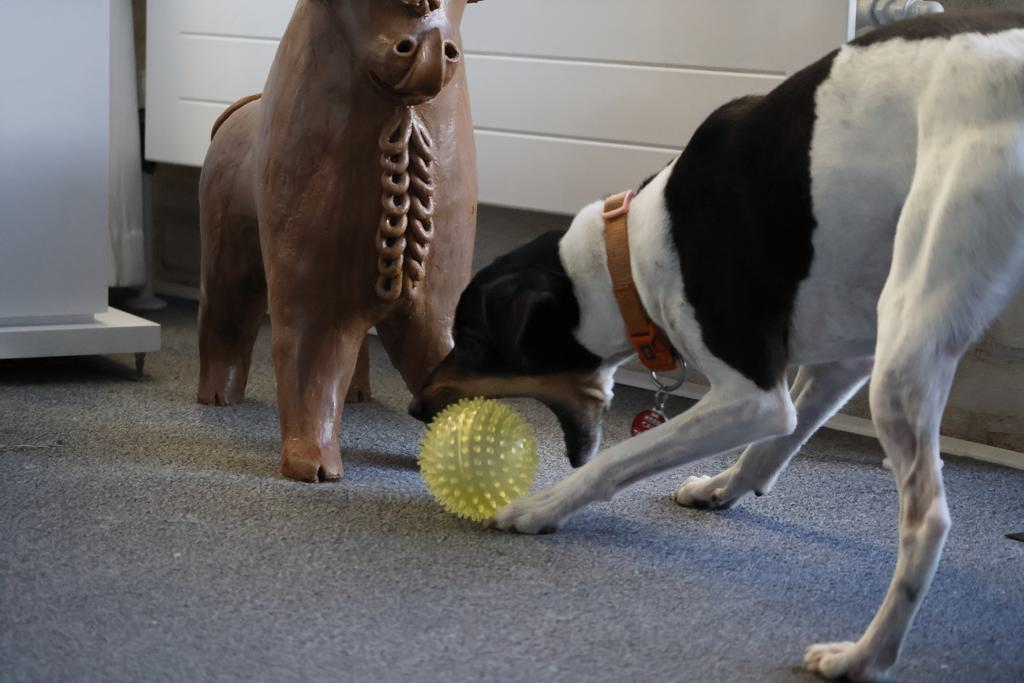Cattle: (186, 0, 517, 496)
Dog: (389, 4, 1024, 683)
